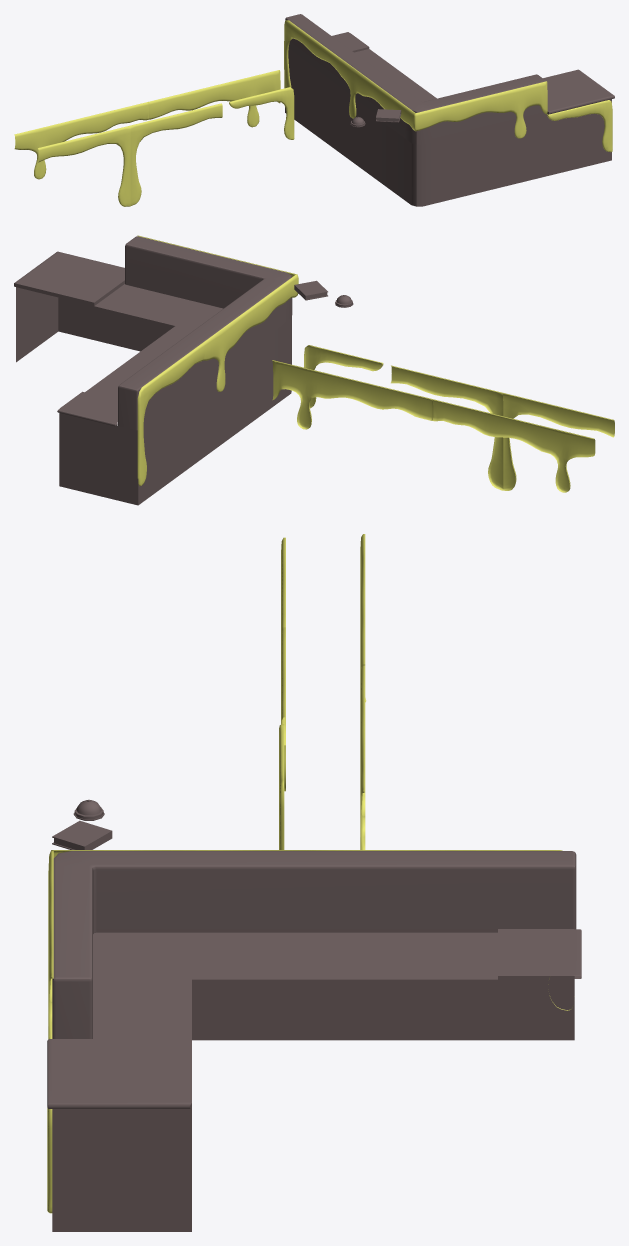
File: DeskFinal.fbx
3 views of the same model, one above another, from view 1: azimuth 30°, elevation 25°; view 2: azimuth 150°, elevation 25°; view 3: azimuth 270°, elevation 25° (orthographic). The views are drawn at different scales.
Parts seen in each view (by area): view 1: BigPart, SmallPArt, LongHoney2, HoneyPart, HoneyPart2, Honey1part, Honey2Part, SideHoney2, SmallHoney5, SmallHoney2, Book; view 2: BigPart, SmallPArt, HoneyPart, HoneyPart2, Honey2Part, LongHoney2, Honey1part, SideHoney2, SmallHoney5, Book; view 3: BigPart, SmallPArt, LongHoney2, Book, HoneyPart.
Part boxes in pixels (left/top/right/bottom): BigPart: left=285, top=32, right=614, bottom=206; SmallPArt: left=285, top=14, right=545, bottom=144; LongHoney2: left=336, top=56, right=547, bottom=138; HoneyPart: left=148, top=70, right=280, bottom=127; HoneyPart2: left=14, top=102, right=148, bottom=179; Honey1part: left=38, top=126, right=130, bottom=206; Honey2Part: left=130, top=103, right=222, bottom=206; SideHoney2: left=284, top=20, right=337, bottom=88; SmallHoney5: left=229, top=87, right=294, bottom=139; SmallHoney2: left=547, top=100, right=612, bottom=152; Book: left=376, top=109, right=401, bottom=122; BigPart: left=14, top=251, right=291, bottom=505; SmallPArt: left=118, top=236, right=292, bottom=430; HoneyPart: left=272, top=360, right=433, bottom=429; HoneyPart2: left=432, top=399, right=595, bottom=492; Honey2Part: left=391, top=365, right=503, bottom=490; LongHoney2: left=137, top=235, right=298, bottom=391; Honey1part: left=502, top=392, right=614, bottom=490; SideHoney2: left=137, top=343, right=204, bottom=486; SmallHoney5: left=304, top=345, right=383, bottom=408; Book: left=294, top=280, right=327, bottom=300; BigPart: left=47, top=929, right=581, bottom=1231; SmallPArt: left=52, top=851, right=576, bottom=1038; LongHoney2: left=48, top=850, right=362, bottom=1039; Book: left=52, top=820, right=112, bottom=849; HoneyPart: left=360, top=664, right=366, bottom=849.
Bounding box in the file's own units: 12.14 × 2.14 × 5.38.
